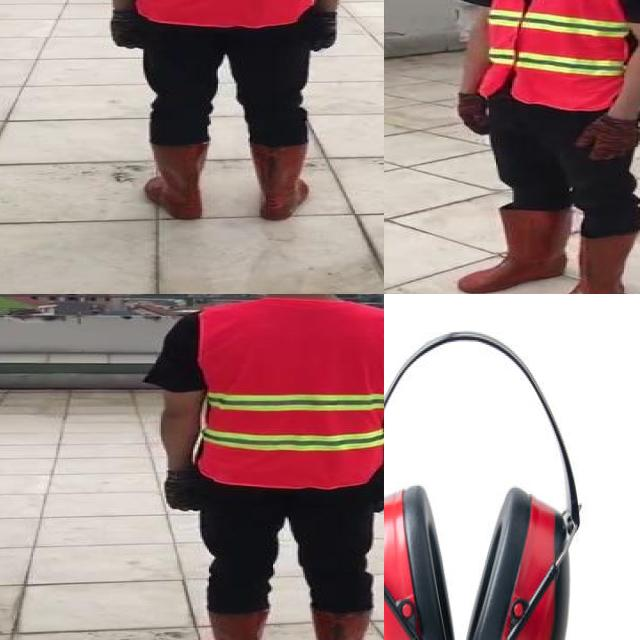Ear-protection: (384, 303, 612, 640)
boots: (457, 209, 569, 293), (142, 141, 209, 218), (549, 235, 636, 294), (248, 139, 309, 221), (189, 610, 267, 640), (308, 607, 372, 640)
hand_glove: (576, 114, 640, 160), (161, 466, 200, 513), (110, 9, 144, 50), (455, 93, 489, 132), (307, 13, 337, 52), (376, 471, 384, 511)
person: (147, 294, 384, 640), (77, 0, 360, 226), (449, 0, 640, 294)
vest: (198, 299, 384, 488), (478, 0, 640, 112)
